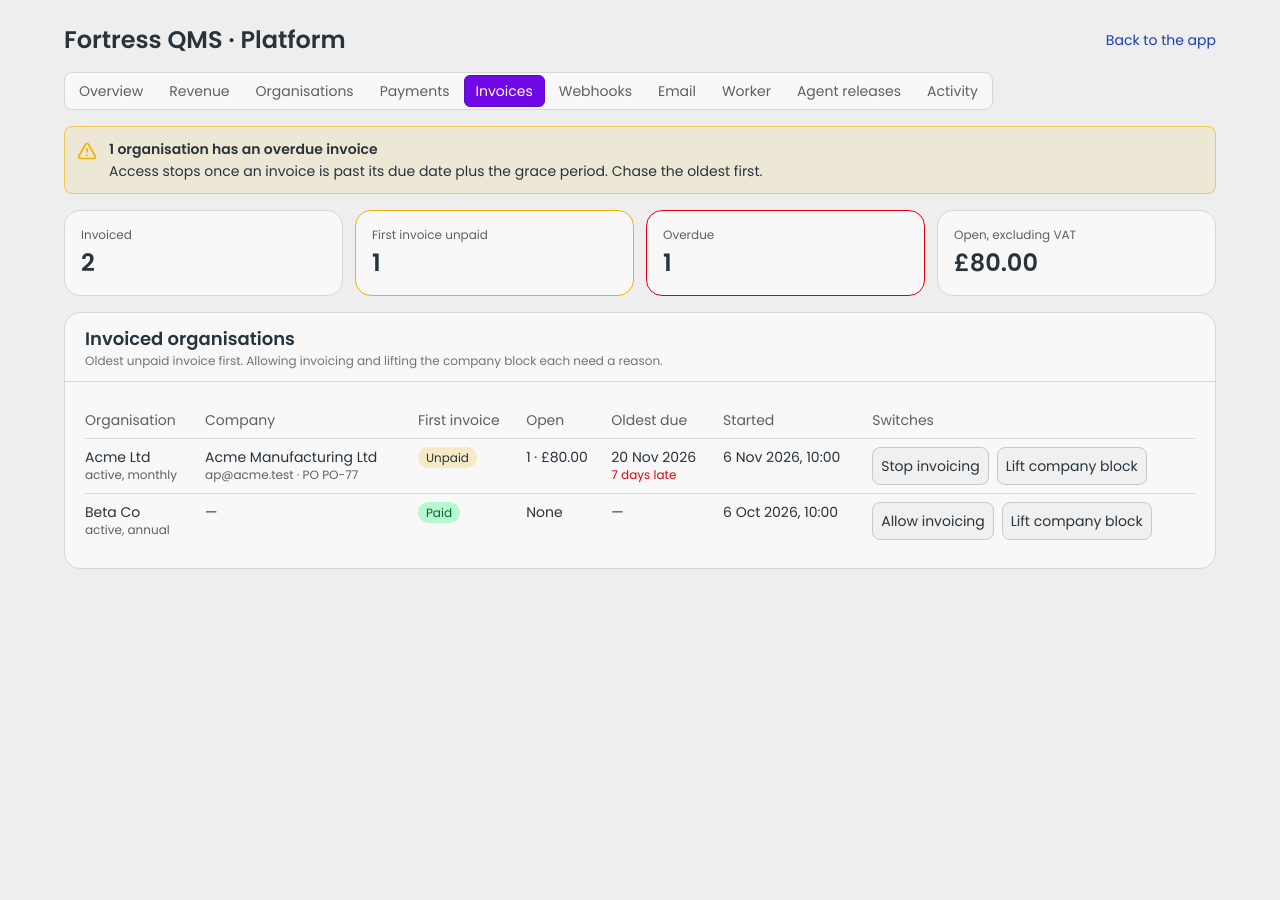
Test: invoices › shows who pays by invoice, what is overdue, and lets the operator switch invoicing off with a reason
Expected: the element named "Invoiced organisations" shows "First invoice unpaid", top-left (372, 226), bottom-right (488, 243)
Expected: the text "1 organisation has an overdue invoice" is shown, top-left (109, 139), bottom-right (378, 159)
Click the button with aria-label "Stop invoicing for Acme Ltd" at coordinates (930, 466), box top-left (872, 447), bottom-right (989, 485)
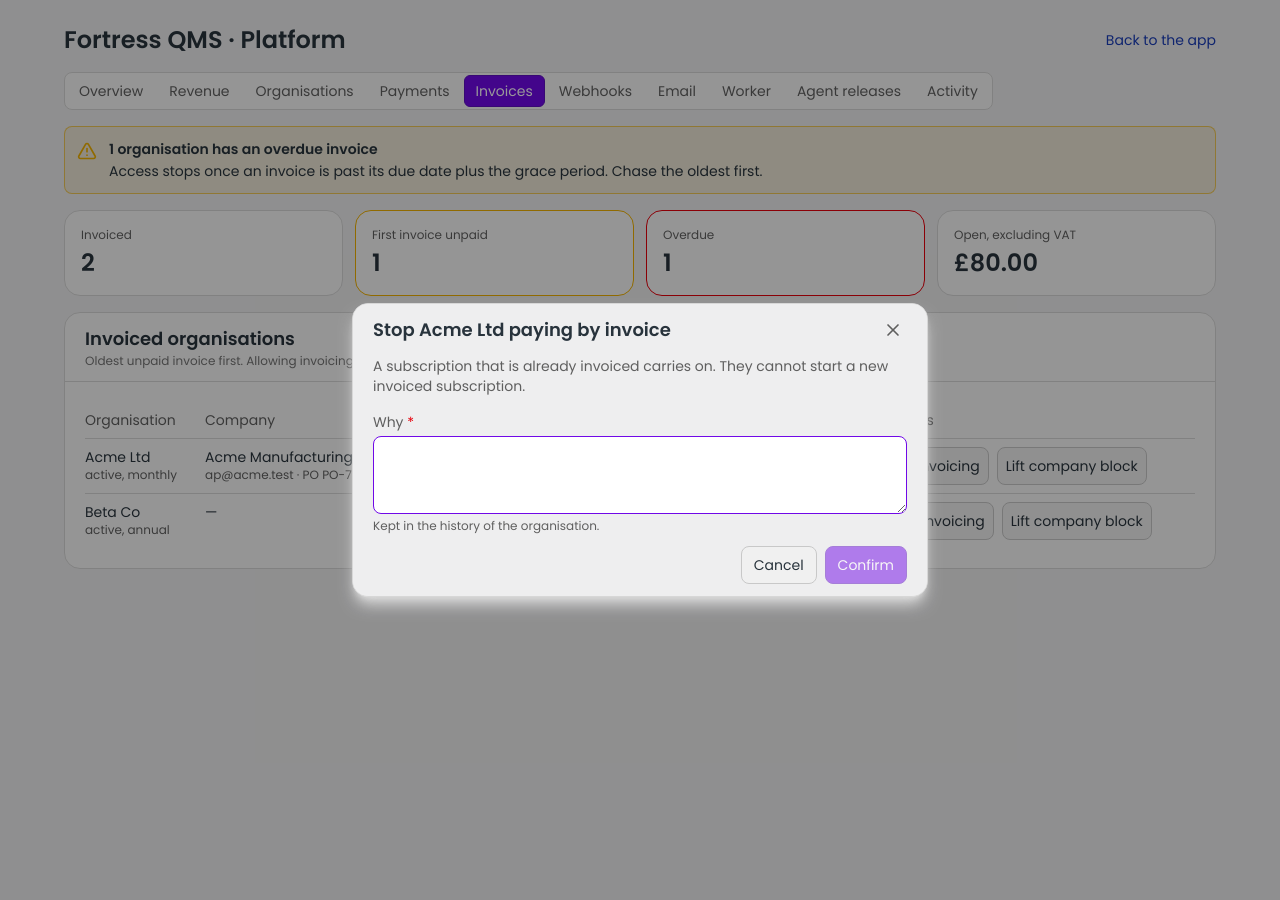
Expected: the button "Confirm" is disabled, top-left (825, 546), bottom-right (907, 584)
Type "Unpaid twice" into the text box labelled "Why" at coordinates (640, 475), box top-left (373, 436), bottom-right (907, 514)
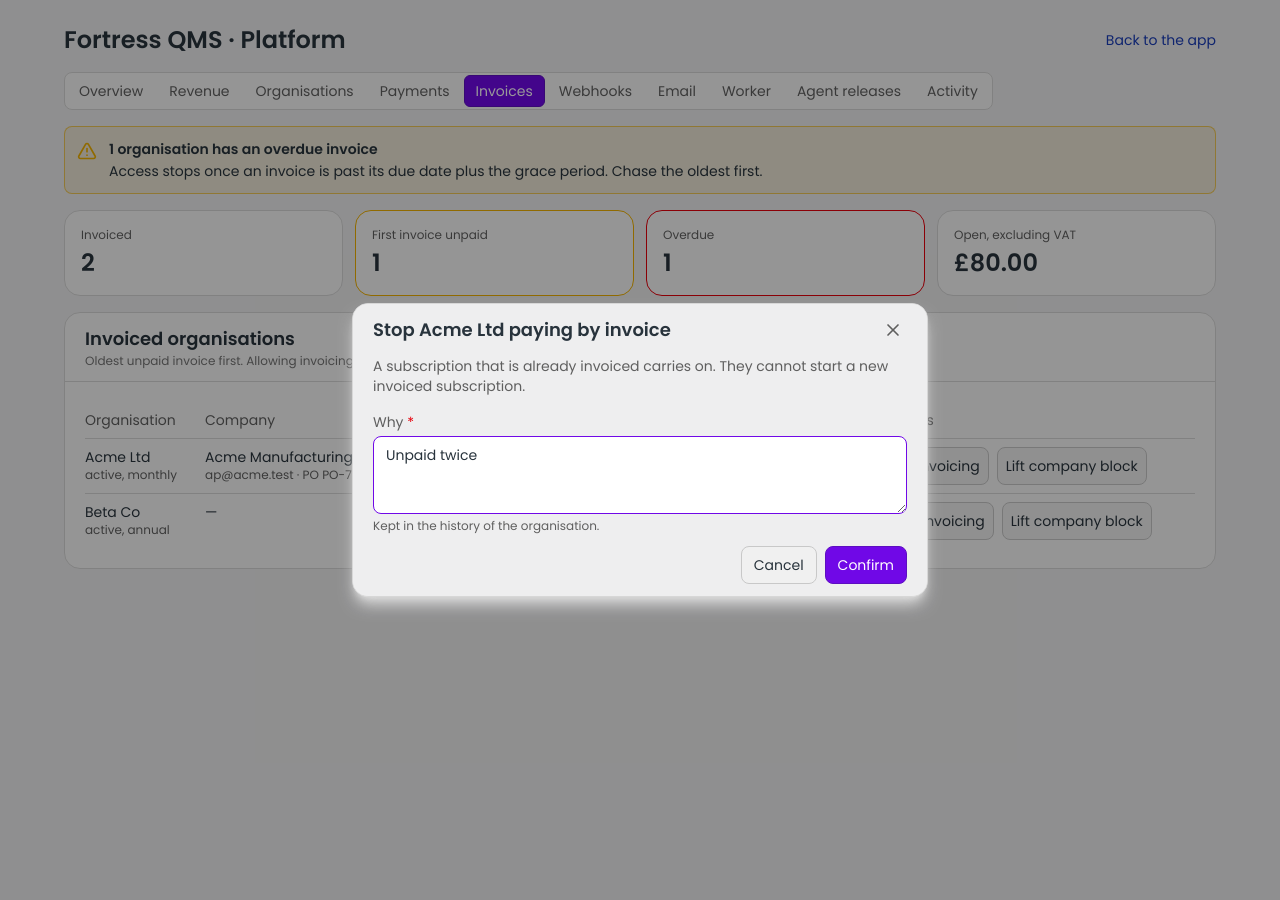
Click the button "Confirm" at coordinates (866, 565), box top-left (825, 546), bottom-right (907, 584)
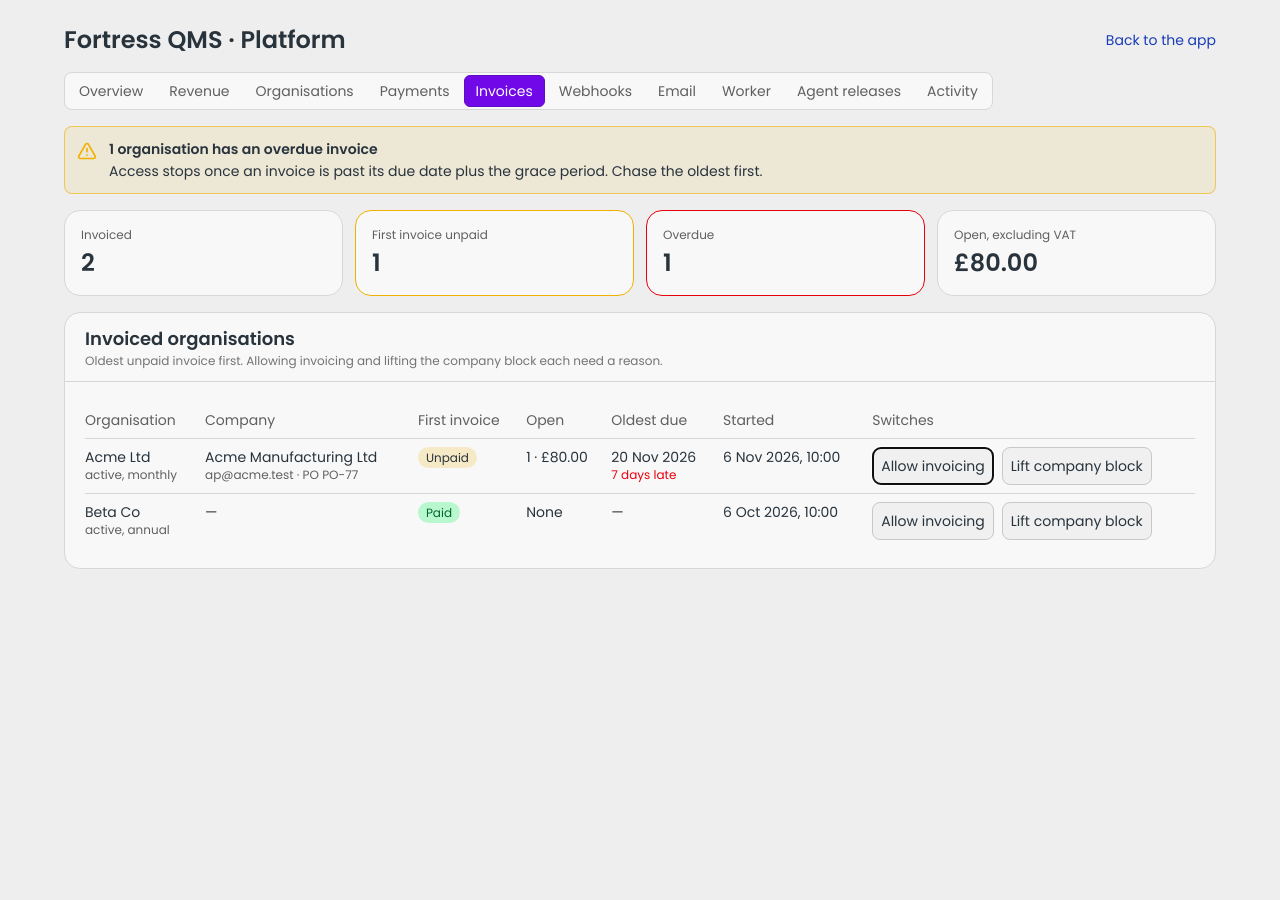
Expected: the button with aria-label "Allow invoicing for Acme Ltd" is shown, top-left (872, 447), bottom-right (994, 485)
